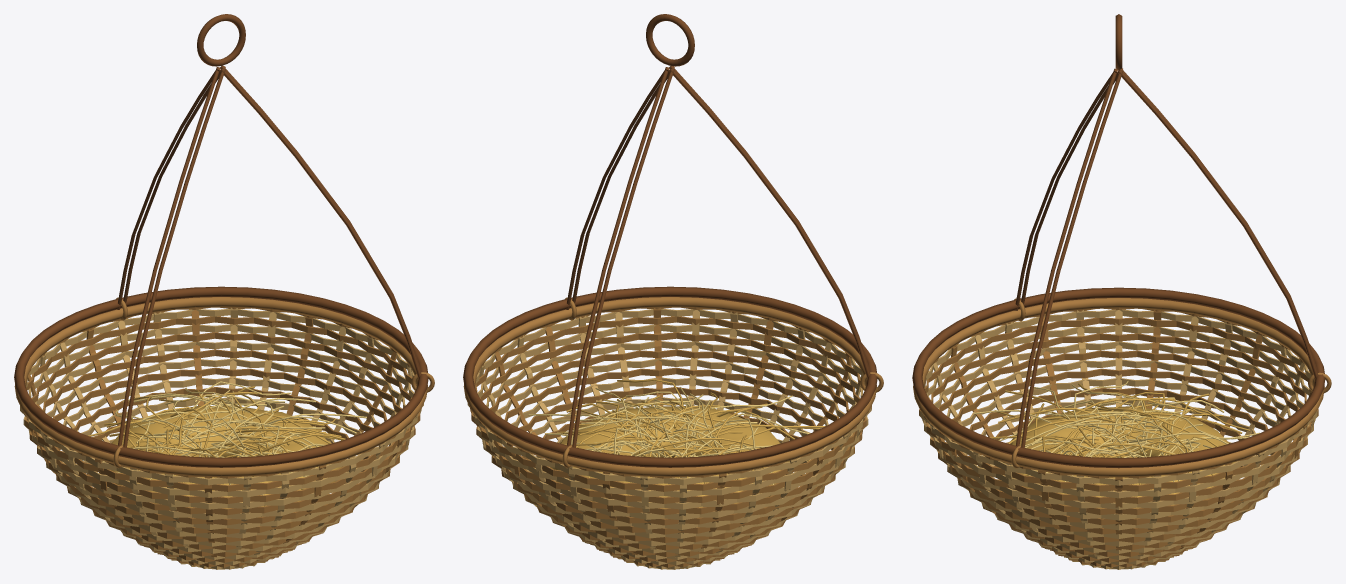
The model's file is TraditionalBambooBroodingNest.fbx.
The picture shows the model from 3 angles, left to right: view 1: azimuth 30°, elevation 25°; view 2: azimuth 150°, elevation 25°; view 3: azimuth 270°, elevation 25°; orthographic projection.
Parts seen in each view (by area): view 1: Basket_BambooWeave, Straw_Bedding, Suspension_Optional; view 2: Basket_BambooWeave, Straw_Bedding, Suspension_Optional; view 3: Basket_BambooWeave, Straw_Bedding, Suspension_Optional.
Part boxes in pixels (bbox=[...]): Basket_BambooWeave: bbox=[14, 286, 428, 569]; Straw_Bedding: bbox=[81, 381, 366, 516]; Suspension_Optional: bbox=[113, 14, 434, 468]; Basket_BambooWeave: bbox=[463, 286, 877, 569]; Straw_Bedding: bbox=[528, 379, 825, 517]; Suspension_Optional: bbox=[562, 14, 883, 468]; Basket_BambooWeave: bbox=[912, 287, 1325, 569]; Straw_Bedding: bbox=[974, 381, 1259, 518]; Suspension_Optional: bbox=[1011, 14, 1331, 468].
Size of the model in its own units: 0.609 by 0.8767 by 0.618.
